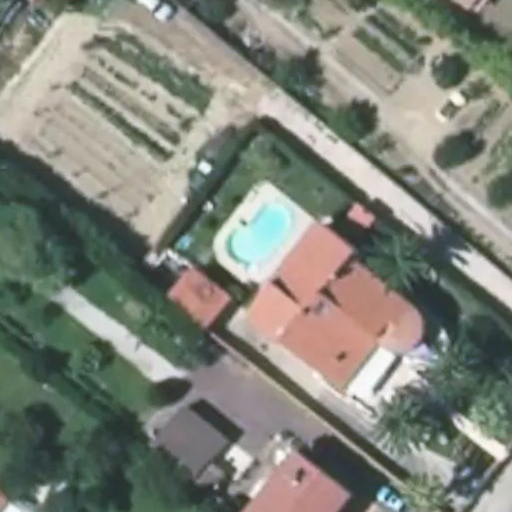pool: (226, 198, 298, 267)
